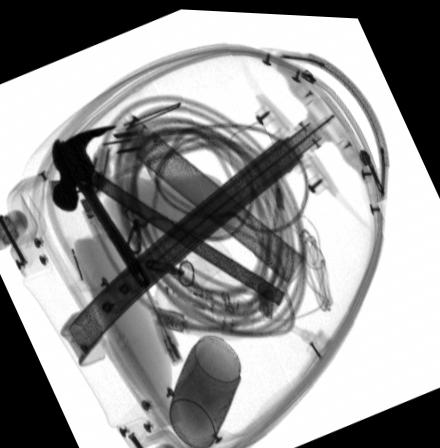Hammer: (51, 125, 288, 305)
Wrench: (52, 138, 152, 289)
